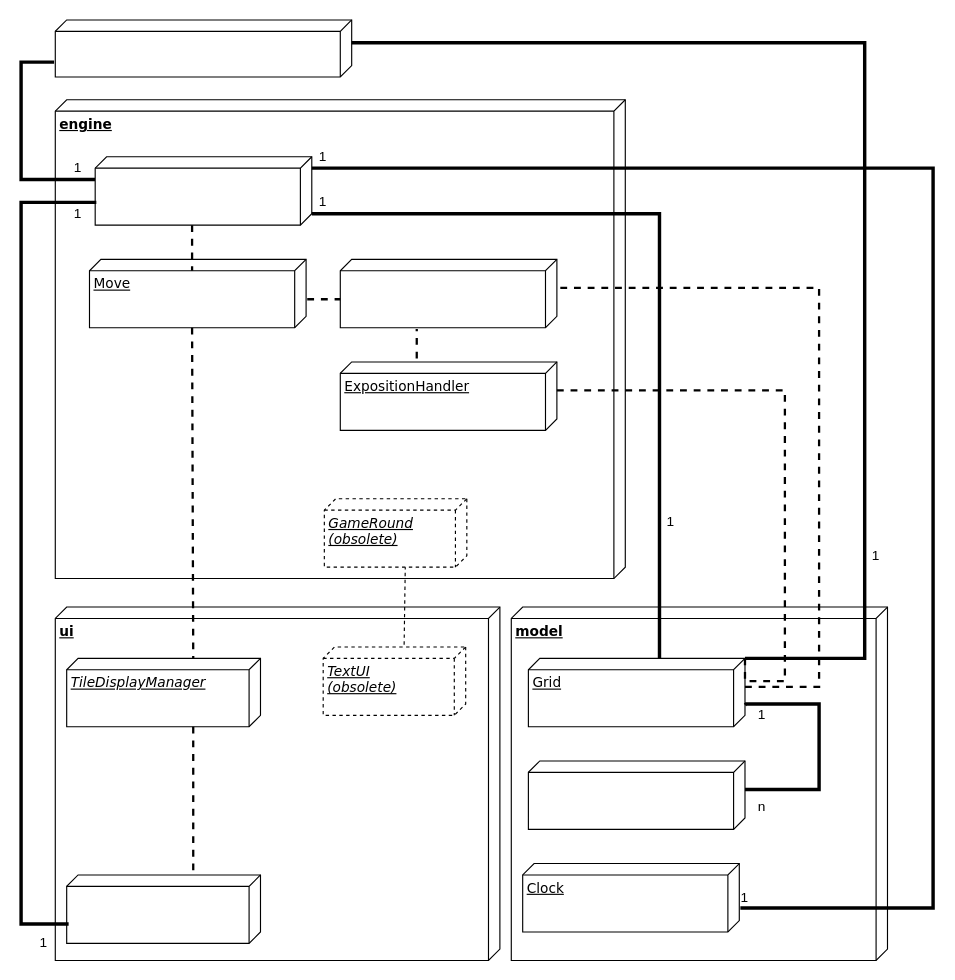
This 955x980 diagram has some shape labels left out. Each missing label, with the centre of its shape:
"GameController" goes at point 203,190.
"main" goes at point 203,48.
"MainWindow" goes at point 163,908.
"MoveResolver" goes at point 448,293.
"Tile" goes at point 636,794.
